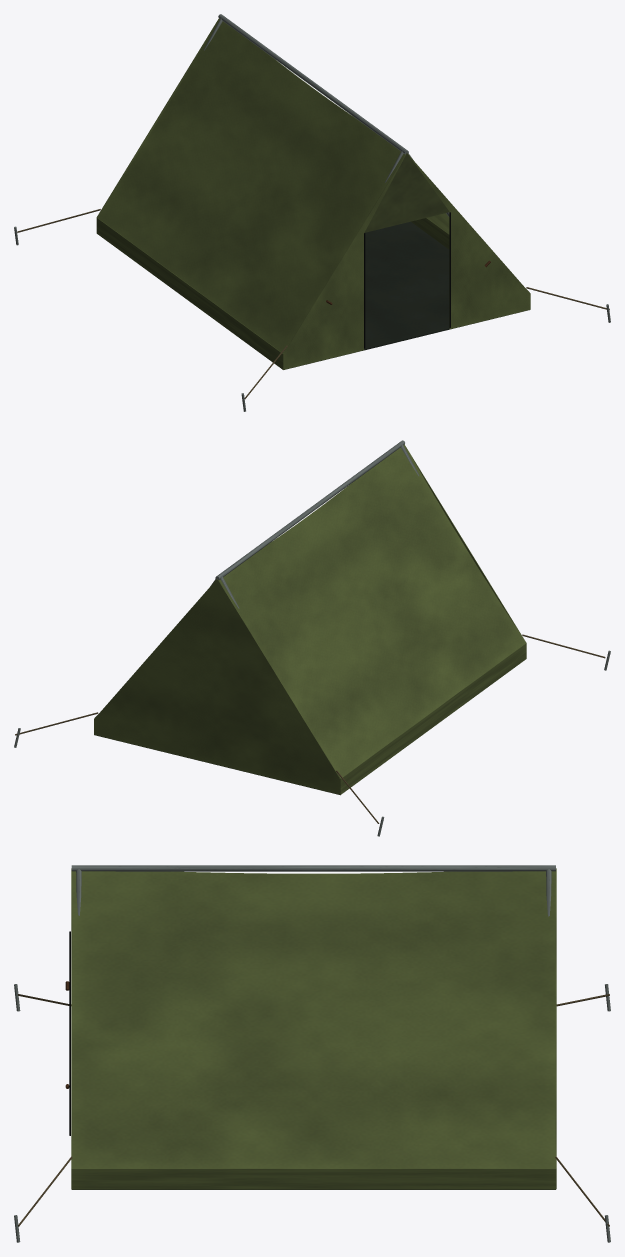
The model's file is level_camp_tent_ridge_refined.glb.
3 views of the same model, one above another, from view 1: azimuth 30°, elevation 25°; view 2: azimuth 150°, elevation 25°; view 3: azimuth 270°, elevation 25° (orthographic). The views are drawn at different scales.
Parts seen in each view (by area): view 1: level_camp_tent_ridge_refined; view 2: level_camp_tent_ridge_refined; view 3: level_camp_tent_ridge_refined.
Boxes of the visible parts, box(x1,y1,x2,y2) form: level_camp_tent_ridge_refined: box(14, 14, 610, 411); level_camp_tent_ridge_refined: box(14, 440, 610, 836); level_camp_tent_ridge_refined: box(14, 865, 610, 1242).
Size of the model in its own units: 3.9 by 2.02 by 4.19.
Materials: 7 (7 with a texture image).
